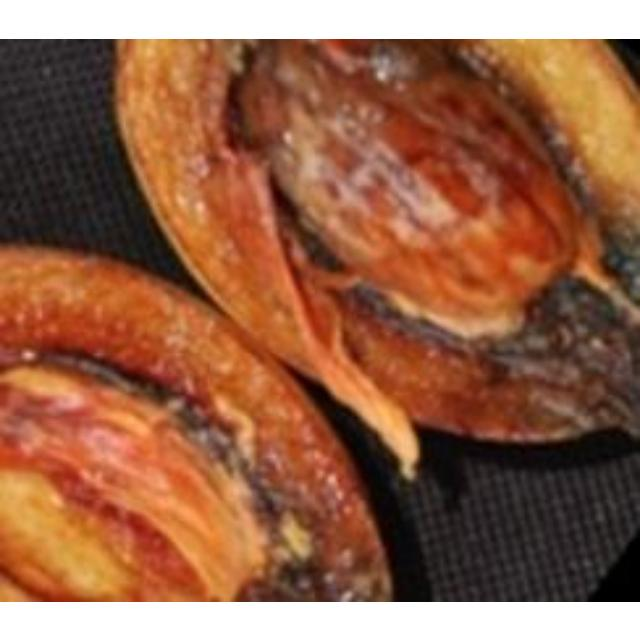damaged: (113, 38, 637, 481), (0, 245, 393, 599)
